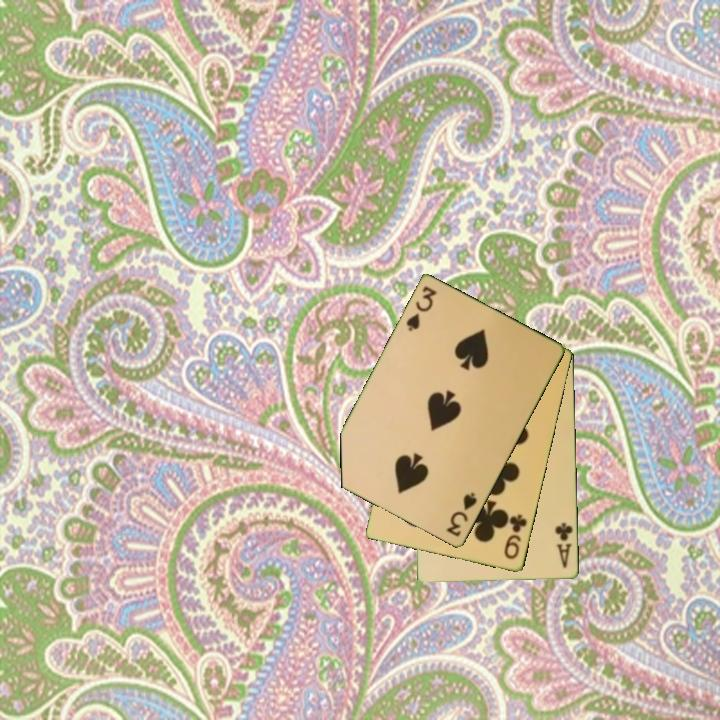3s: (403, 283, 440, 335), (443, 489, 480, 540)
9c: (501, 511, 530, 562)
Ac: (552, 519, 576, 571)
